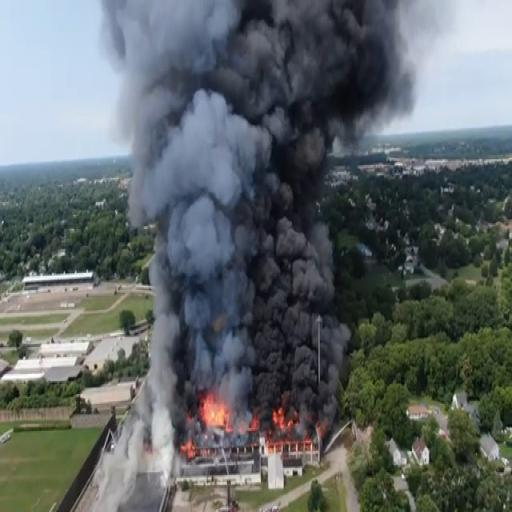smoke: (129, 0, 309, 223), (123, 2, 247, 190), (218, 0, 383, 117), (178, 92, 218, 381), (216, 223, 261, 397), (147, 272, 176, 486), (276, 228, 309, 394), (254, 282, 277, 413)
